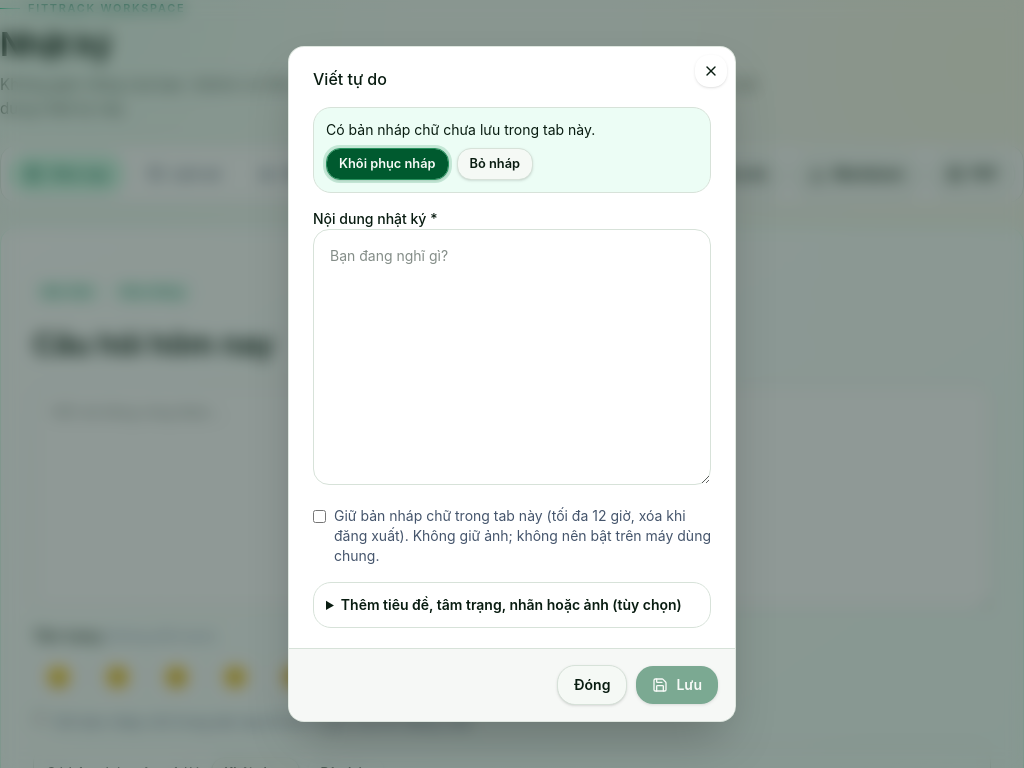
Test: preserves prompt and entry drafts while privacy settings load, then permits recovery
Expected: the heading "Câu hỏi hôm nay" is shown, [33,326,274,362]
Click the button "Khôi phục nháp".
click(387, 164)  # box [326,148,448,180]
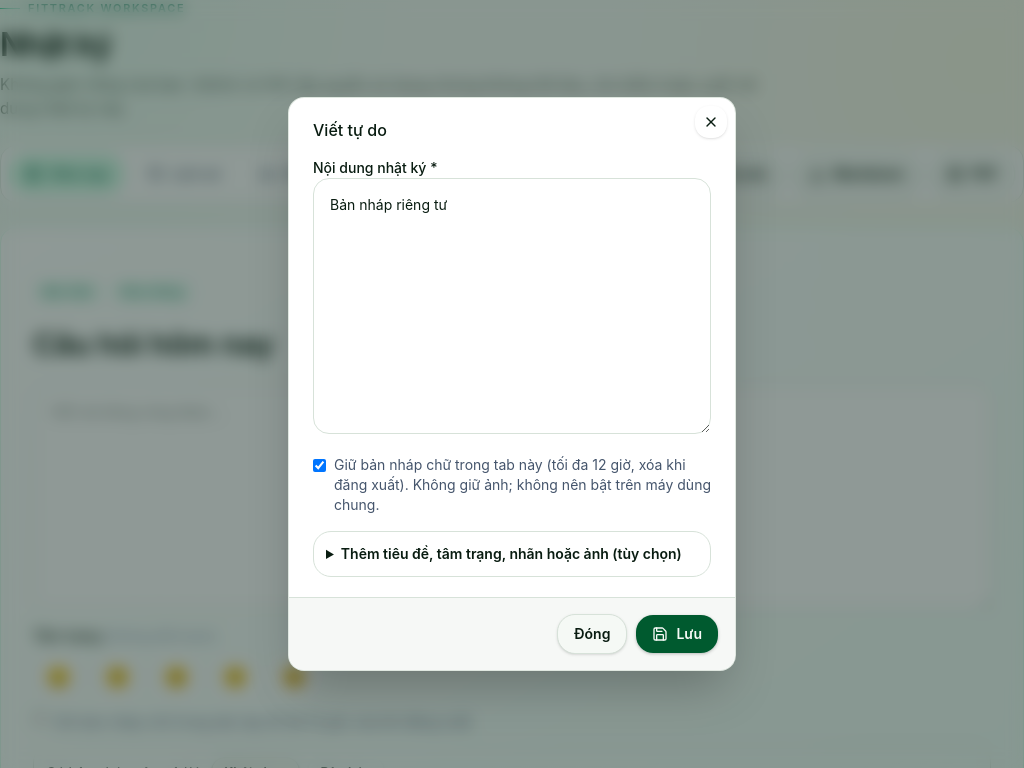
Result: the text box labelled "Nội dung nhật ký *" holds "Bản nháp riêng tư" at [313,178,711,434]
